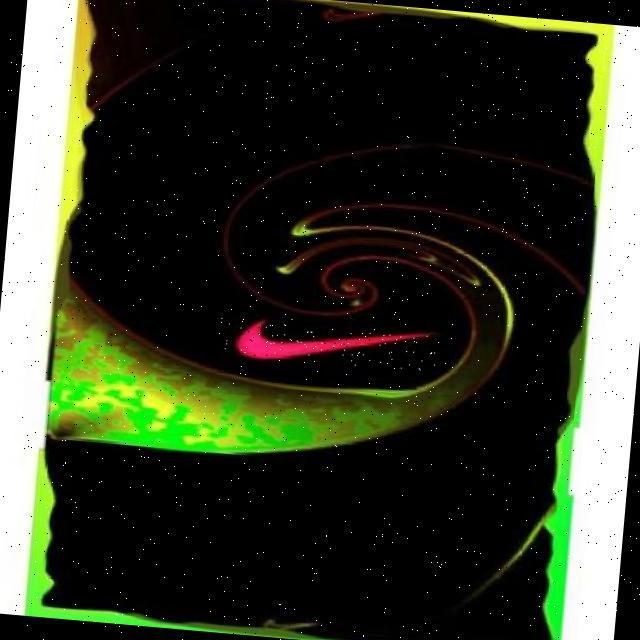Nike: (217, 312, 440, 373)
